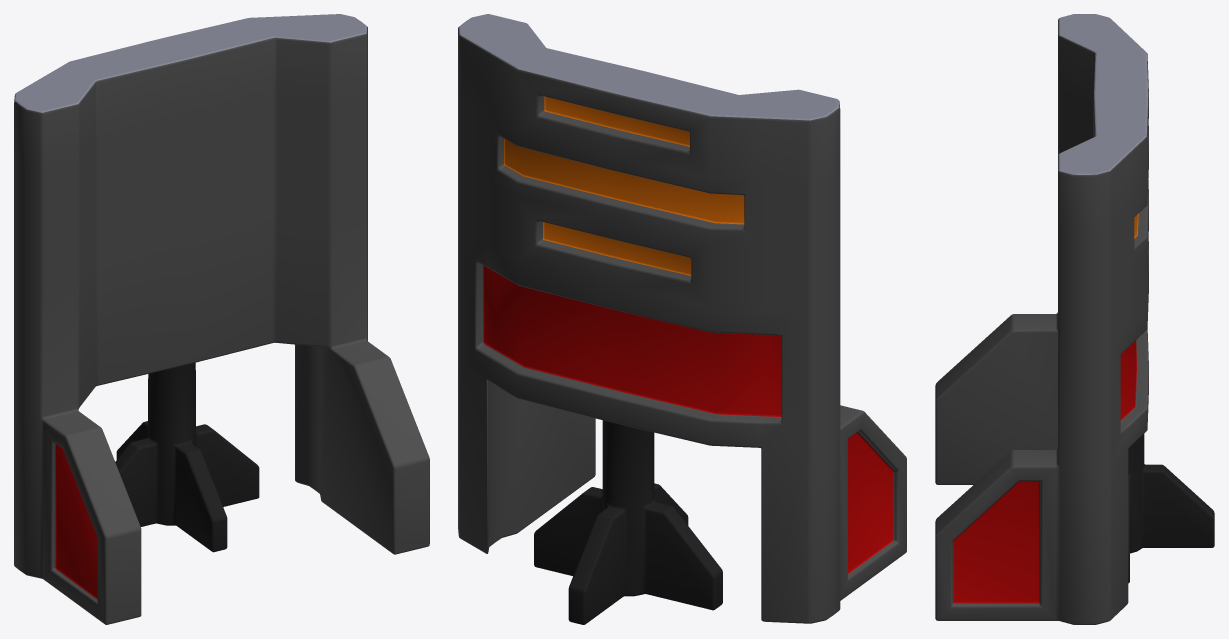
Rendered from Wallnut.fbx.
3 renders of one model, left to right at view 1: azimuth 30°, elevation 25°; view 2: azimuth 150°, elevation 25°; view 3: azimuth 270°, elevation 25°, orthographic. The views are drawn at different scales.
Parts seen in each view (by area): view 1: Plane.005; view 2: Plane.005; view 3: Plane.005.
Part boxes in pixels (x1,y1,x2,y2): Plane.005: (14,14,429,624); Plane.005: (458,14,906,624); Plane.005: (935,14,1214,624).
Bounding box in the file's own units: 77.37 × 101 × 56.55.
